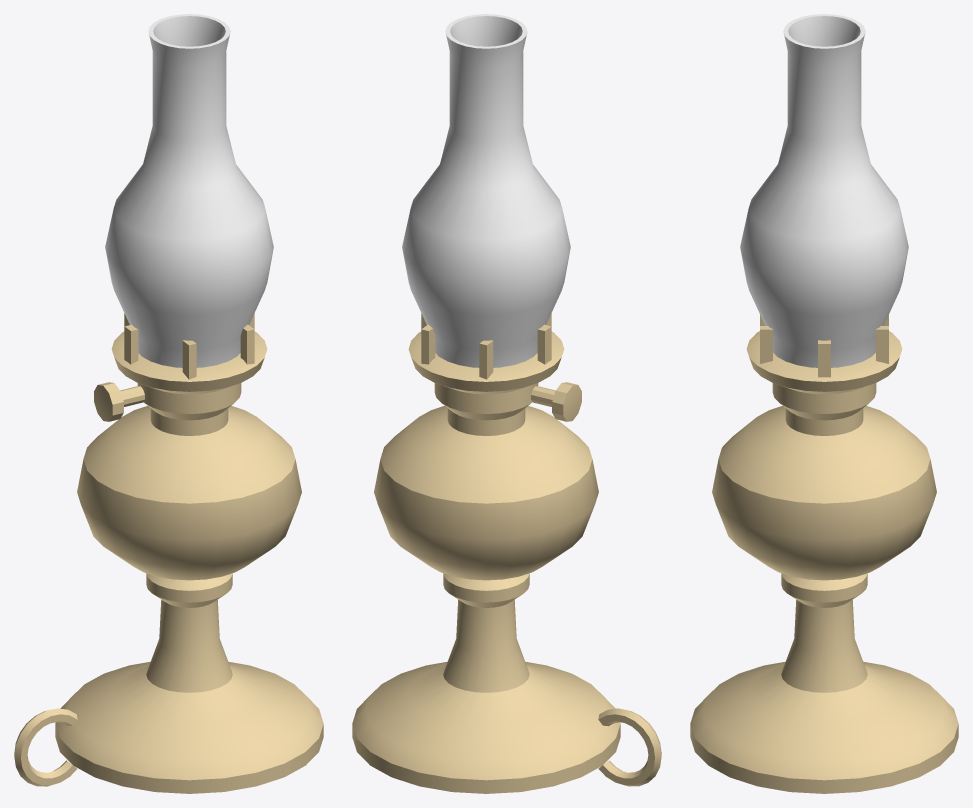
File: businessman_oil_lamp.glb
3 views of the same model, side by side, from view 1: azimuth 30°, elevation 25°; view 2: azimuth 150°, elevation 25°; view 3: azimuth 270°, elevation 25° (orthographic).
Visible parts, largest first — view 1: SO_Int_OilLamp; view 2: SO_Int_OilLamp; view 3: SO_Int_OilLamp.
Boxes of the visible parts, left/top/right/bottom form: SO_Int_OilLamp: left=14, top=14, right=323, bottom=793; SO_Int_OilLamp: left=352, top=14, right=661, bottom=793; SO_Int_OilLamp: left=690, top=14, right=958, bottom=793.
Bounding box in the file's own units: 0.1555 × 0.3674 × 0.124.
